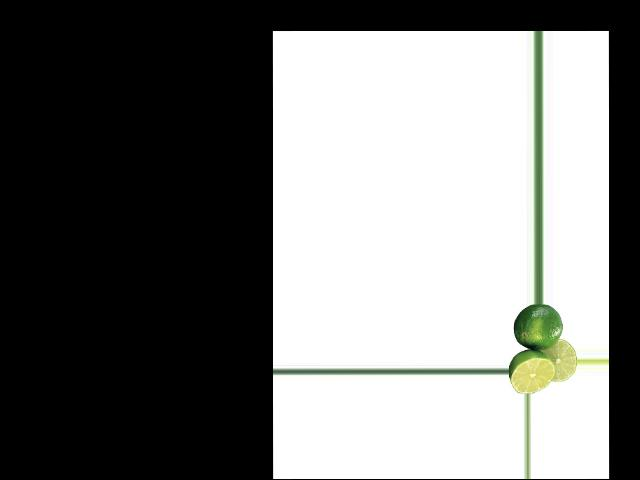lemon: (515, 304, 561, 352)
